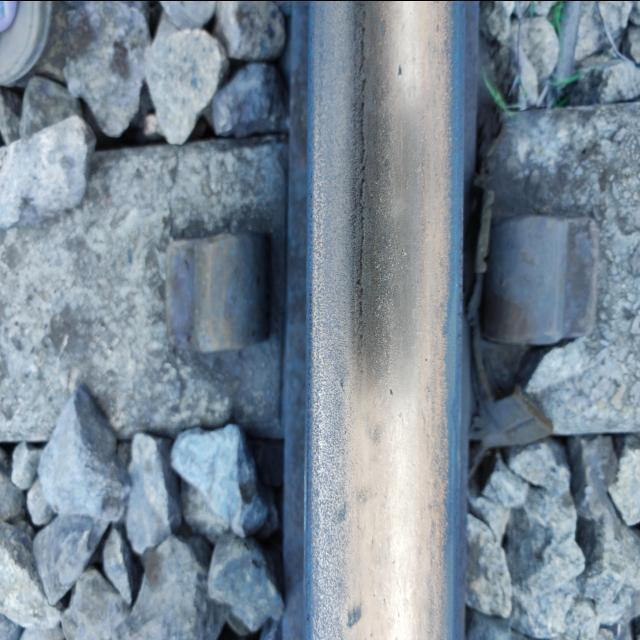head_checks_low: (345, 0, 368, 364)
